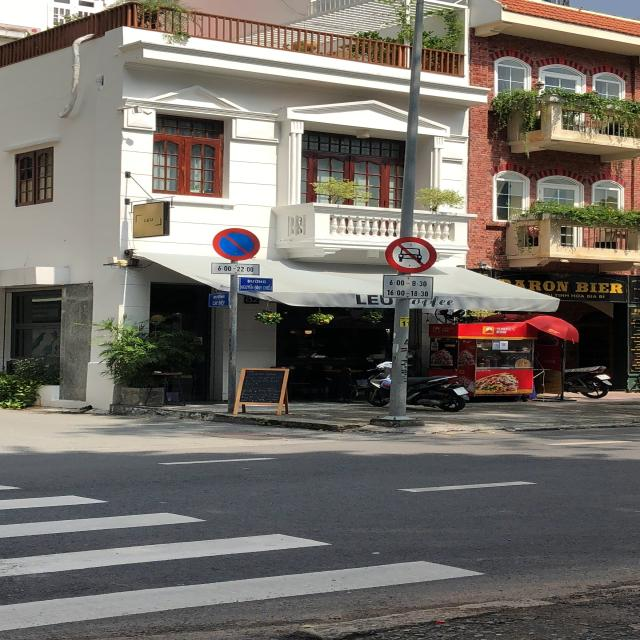Bien bao cam do xe: (208, 226, 264, 263)
Bien bao cam xe oto: (383, 233, 437, 274)
